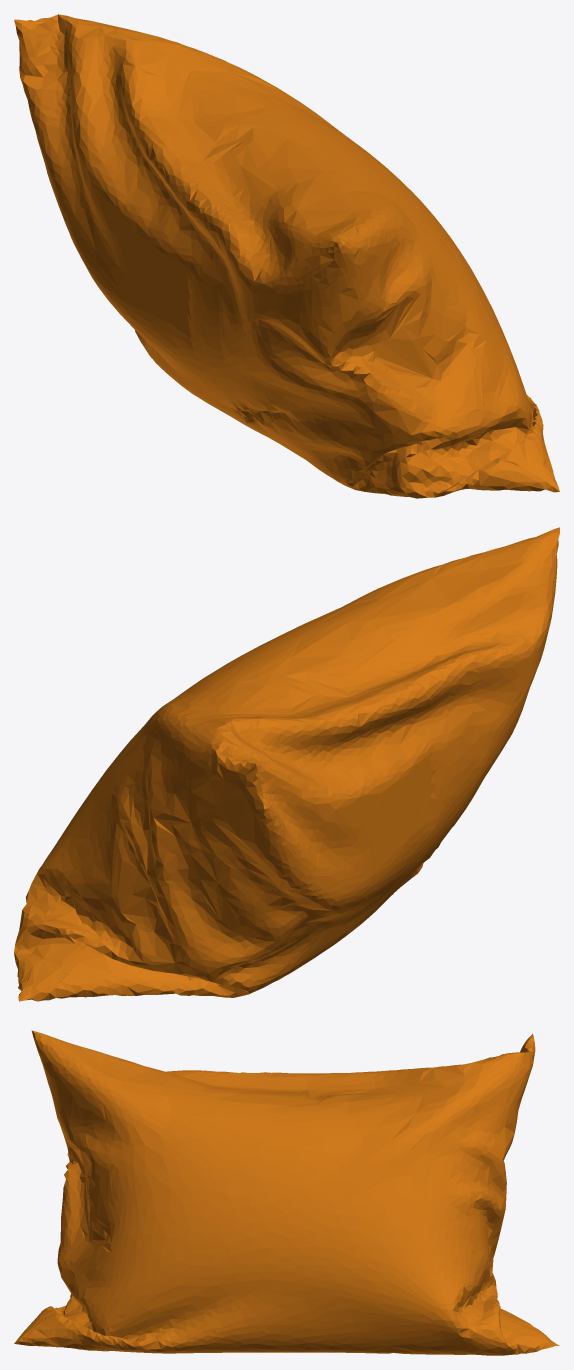
File: Pillow.FBX
3 views of the same model, one above another, from view 1: azimuth 30°, elevation 25°; view 2: azimuth 150°, elevation 25°; view 3: azimuth 270°, elevation 25° (orthographic). The views are drawn at different scales.
Parts seen in each view (by area): view 1: Pillow; view 2: Pillow; view 3: Pillow.
Boxes of the visible parts, box(x1,y1,x2,y2) form: Pillow: box(14, 14, 559, 498); Pillow: box(14, 527, 559, 1001); Pillow: box(14, 1030, 559, 1355).
Bounding box in the file's own units: 11.98 × 23.65 × 11.73.
